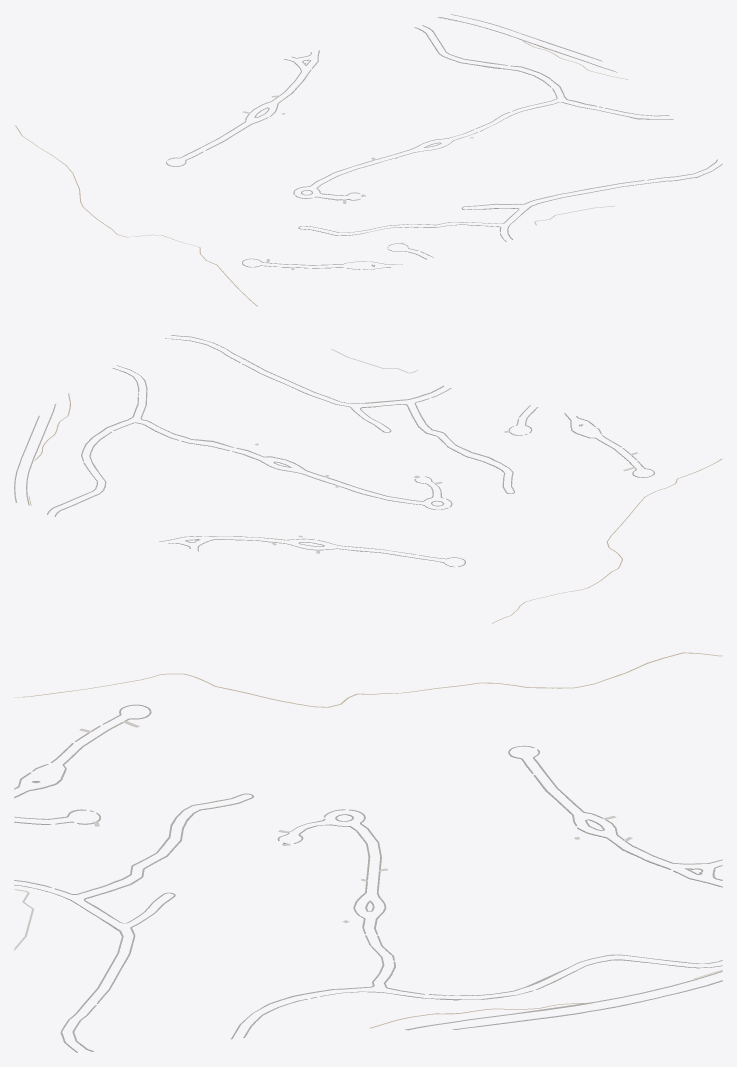
File: ground_r6_c0.glb
3 renders of one model, top to bottom at view 1: azimuth 30°, elevation 25°; view 2: azimuth 150°, elevation 25°; view 3: azimuth 270°, elevation 25°, orthographic. The views are drawn at different scales.
Parts seen in each view (by area): view 1: sidewalks, paths; view 2: sidewalks, paths; view 3: sidewalks, paths.
Boxes of the visible parts, bbox=[...] form: sidewalks: bbox=[166, 14, 722, 269]; paths: bbox=[14, 17, 628, 306]; sidewalks: bbox=[14, 335, 654, 567]; paths: bbox=[28, 348, 722, 623]; sidewalks: bbox=[14, 704, 722, 1052]; paths: bbox=[14, 652, 722, 1028].
Size of the model in its own units: 1025 by 64.39 by 788.
